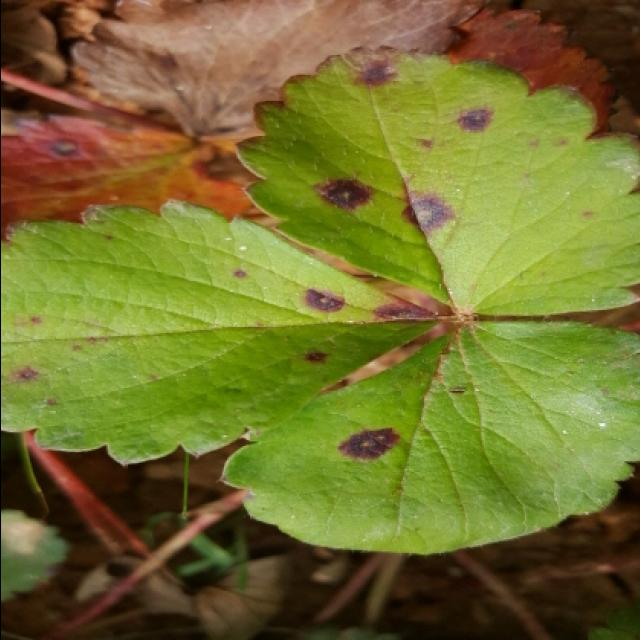Leaf Spot: (2, 198, 445, 466), (233, 44, 640, 317), (217, 317, 640, 557), (2, 108, 282, 231)
